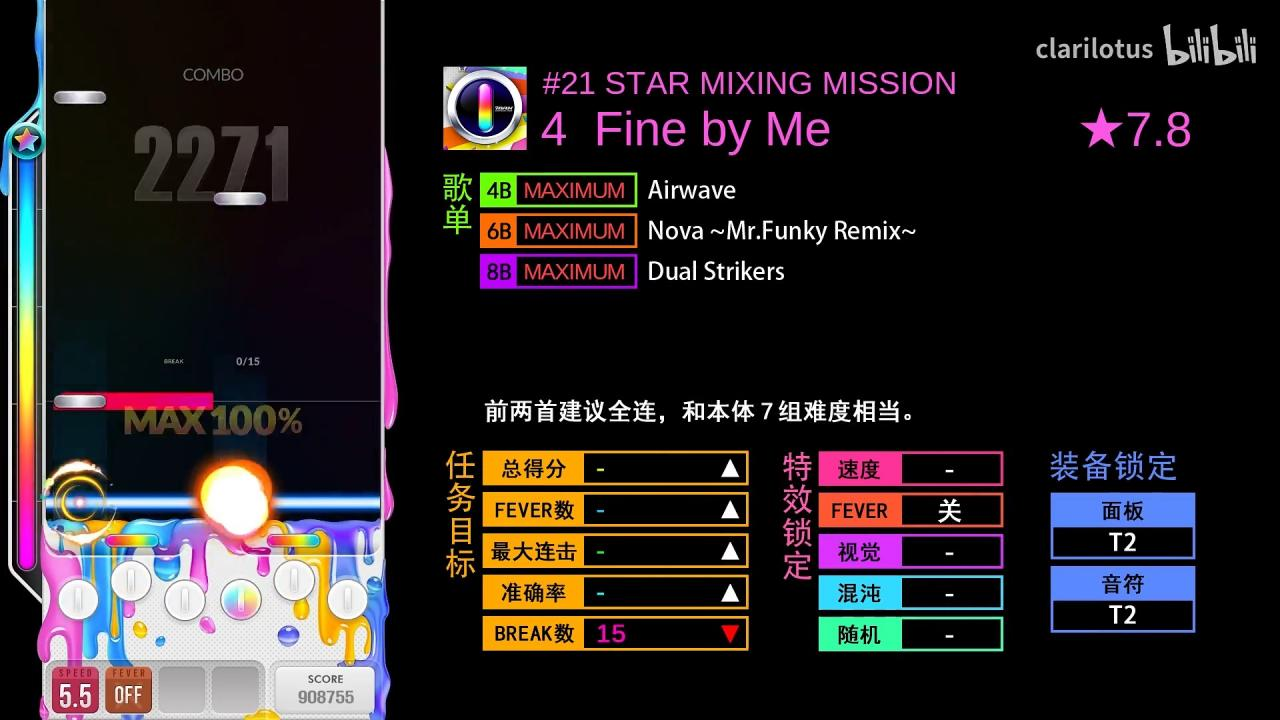note: (54, 394, 106, 408), (213, 192, 267, 205), (55, 91, 106, 104)
xnote: (53, 392, 214, 410)
